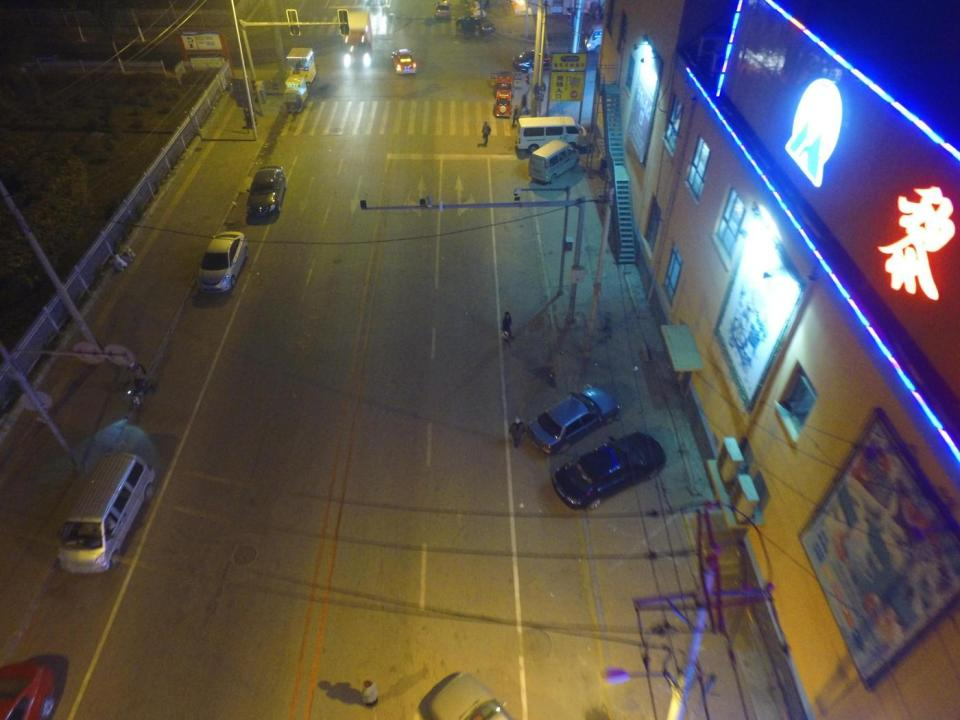car: (552, 432, 666, 512), (527, 388, 620, 455), (425, 671, 514, 720), (197, 231, 249, 292), (1, 664, 54, 720), (246, 167, 286, 216), (513, 49, 557, 74), (457, 14, 494, 36), (392, 48, 416, 74), (435, 0, 452, 20)
truck: (342, 12, 373, 67), (584, 25, 639, 54)
van: (58, 450, 154, 572), (516, 116, 589, 153), (529, 138, 579, 184)
